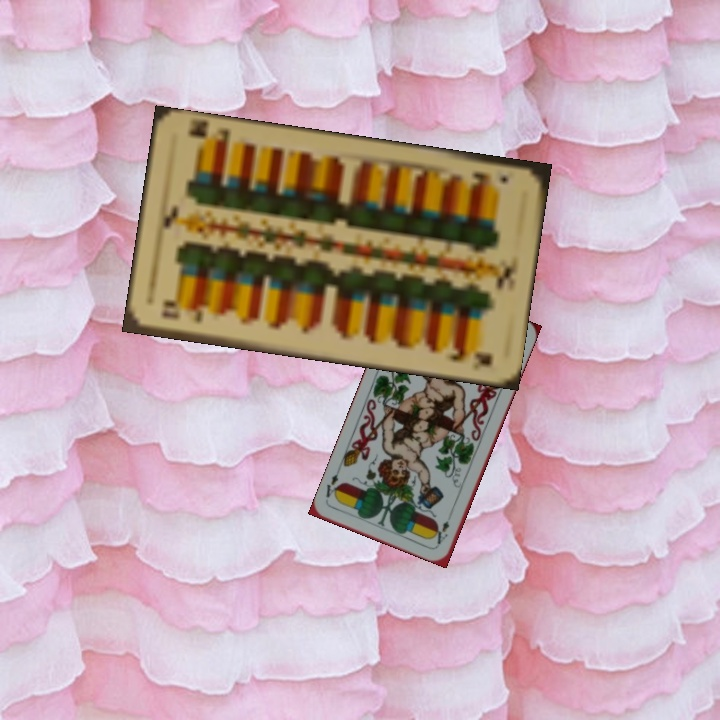E10: (158, 302, 205, 325), (466, 168, 512, 187)
EA: (433, 517, 452, 547)
